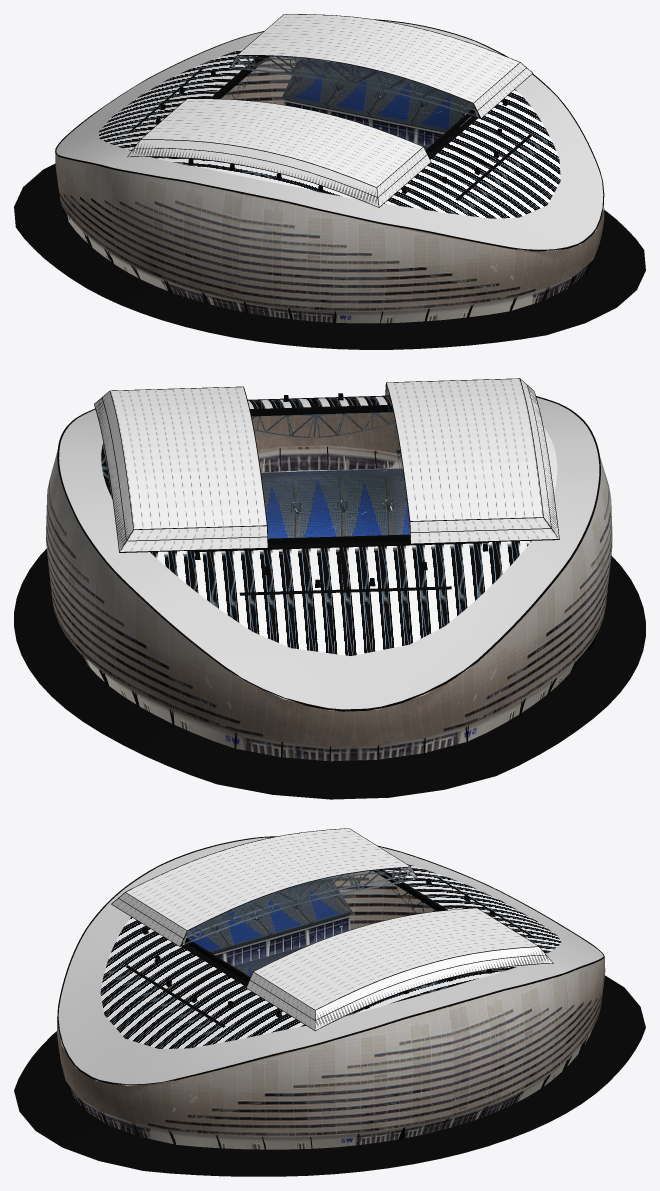
File: sin_nombre.glb
3 views of the same model, one above another, from view 1: azimuth 30°, elevation 25°; view 2: azimuth 150°, elevation 25°; view 3: azimuth 270°, elevation 25° (orthographic). The views are drawn at different scales.
Parts seen in each view (by area): view 1: Plane03, Object_Material #31_0, Object01_Material #62_0, Object03_Material #62_0, Balka01_Material #58_0, Shape006, Shape01_Material #31_0, Shape03, Shape05_Material #31_0, Object02_Material #31_0, Shape04, Box02; view 2: Plane03, Object_Material #31_0, Object03_Material #62_0, Object01_Material #62_0, Shape03, Shape006, Shape05_Material #31_0, Shape01_Material #31_0, Object02_Material #31_0, Object04_Material #58_0, Shape04; view 3: Plane03, Object_Material #31_0, Object03_Material #62_0, Object01_Material #62_0, Balka_Material #58_0, Shape006, Shape05_Material #31_0, Shape03, Shape01_Material #31_0, Object02_Material #31_0, Shape04.
Boxes of the visible parts, left/top/right/bottom form: Plane03: left=55, top=21, right=604, bottom=323; Object_Material #31_0: left=14, top=164, right=645, bottom=349; Object01_Material #62_0: left=128, top=99, right=430, bottom=206; Object03_Material #62_0: left=230, top=14, right=532, bottom=117; Balka01_Material #58_0: left=232, top=55, right=479, bottom=117; Shape006: left=55, top=19, right=604, bottom=251; Shape01_Material #31_0: left=127, top=98, right=430, bottom=207; Shape03: left=210, top=55, right=479, bottom=159; Shape05_Material #31_0: left=229, top=14, right=532, bottom=118; Object02_Material #31_0: left=127, top=68, right=531, bottom=200; Shape04: left=60, top=204, right=599, bottom=324; Box02: left=155, top=70, right=508, bottom=193; Plane03: left=46, top=396, right=612, bottom=761; Object_Material #31_0: left=14, top=549, right=645, bottom=799; Object03_Material #62_0: left=94, top=387, right=267, bottom=551; Object01_Material #62_0: left=386, top=379, right=558, bottom=543; Shape03: left=194, top=405, right=488, bottom=552; Shape006: left=57, top=396, right=600, bottom=711; Shape05_Material #31_0: left=94, top=386, right=268, bottom=552; Shape01_Material #31_0: left=385, top=378, right=559, bottom=544; Object02_Material #31_0: left=239, top=395, right=451, bottom=595; Object04_Material #58_0: left=252, top=412, right=395, bottom=437; Shape04: left=51, top=446, right=606, bottom=762; Plane03: left=56, top=837, right=605, bottom=1149; Object_Material #31_0: left=14, top=975, right=645, bottom=1176; Object03_Material #62_0: left=246, top=908, right=552, bottom=1030; Object01_Material #62_0: left=112, top=828, right=417, bottom=946; Balka_Material #58_0: left=182, top=867, right=415, bottom=945; Shape006: left=57, top=836, right=604, bottom=1084; Shape05_Material #31_0: left=246, top=908, right=553, bottom=1030; Shape03: left=181, top=869, right=447, bottom=986; Shape01_Material #31_0: left=111, top=828, right=418, bottom=946; Object02_Material #31_0: left=125, top=877, right=536, bottom=1027; Shape04: left=60, top=1007, right=601, bottom=1150.
Size of the model in its own units: 3.39 by 1.04 by 3.83.
Materials: 6 (4 with a texture image).
